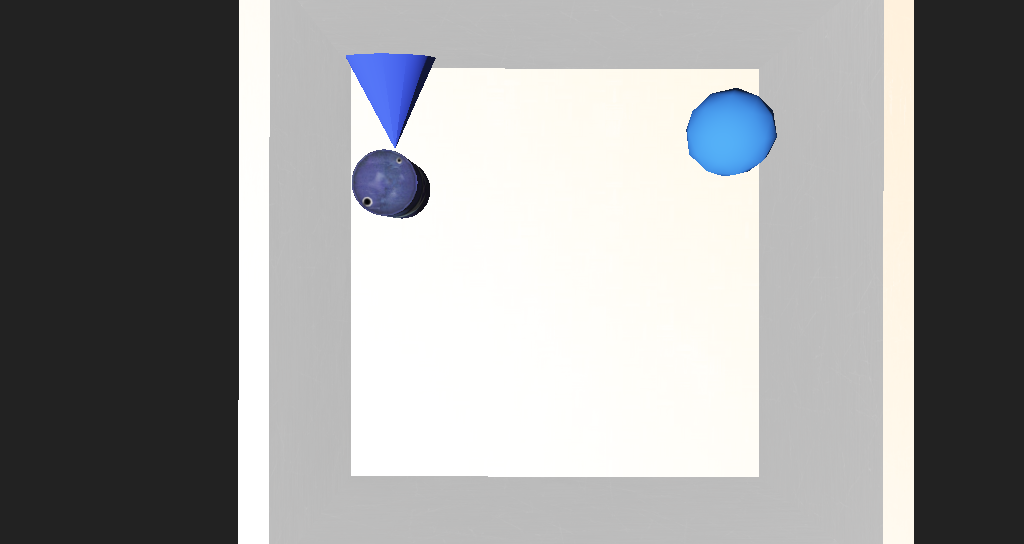cone: (357, 205, 411, 243)
cylinder: (350, 150, 418, 212)
sphere: (603, 172, 664, 220)
